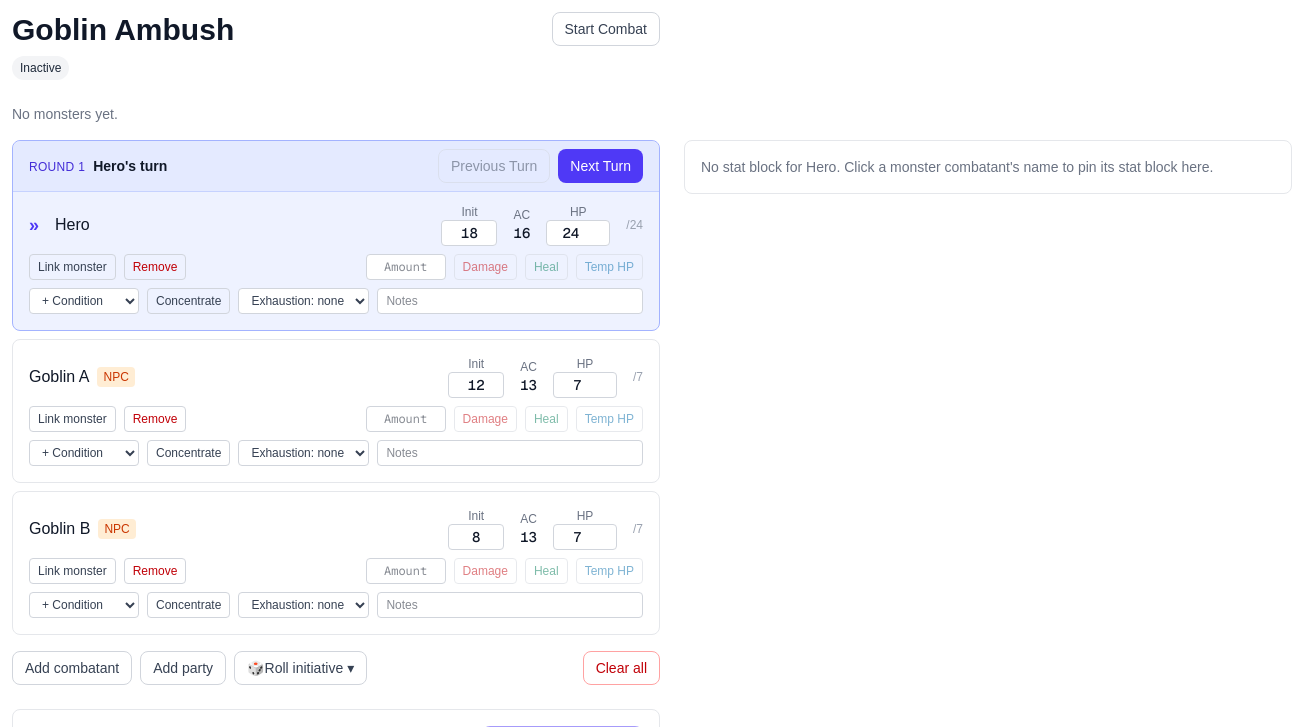
Test case: InitiativeTrackerPage › lets the creator toggle active state via Start/End Combat
Click the button "Start Combat" at [606, 29], box [552, 12, 660, 46]
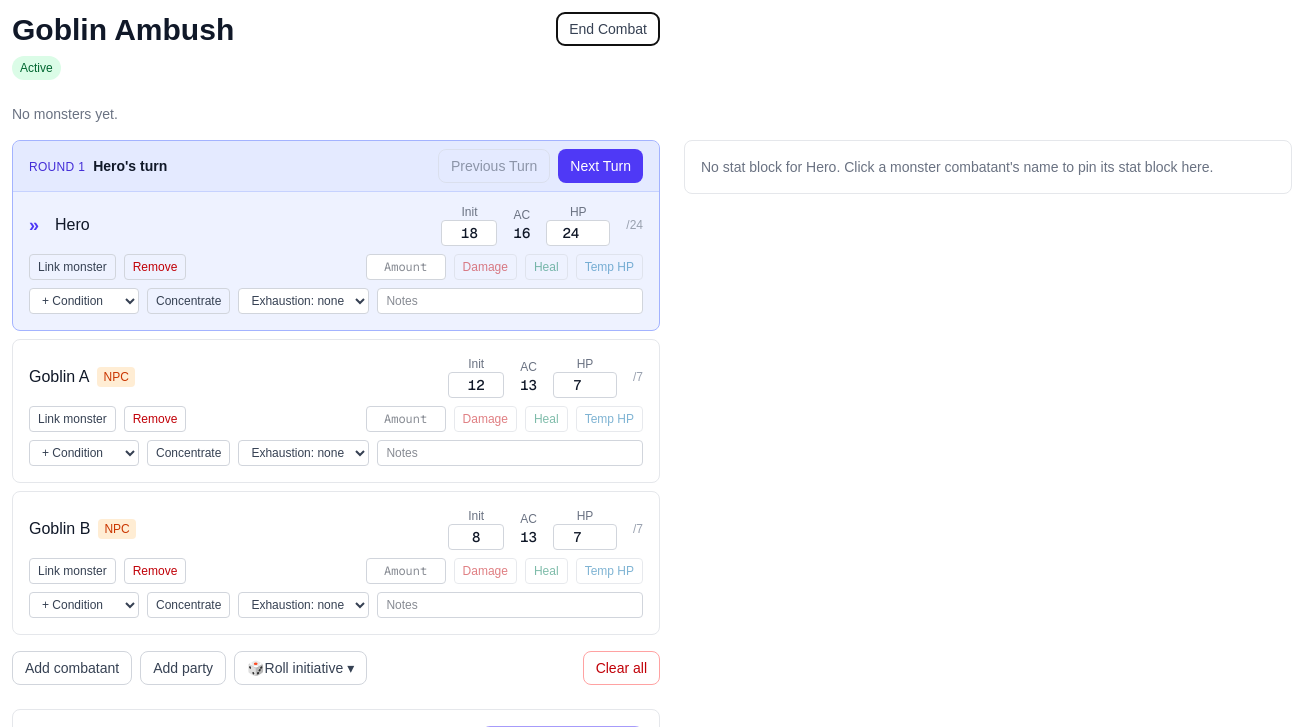
Expected: the text "Active" is shown, [12, 56, 61, 80]
Expected: the button "End Combat" is shown, [556, 12, 660, 46]
